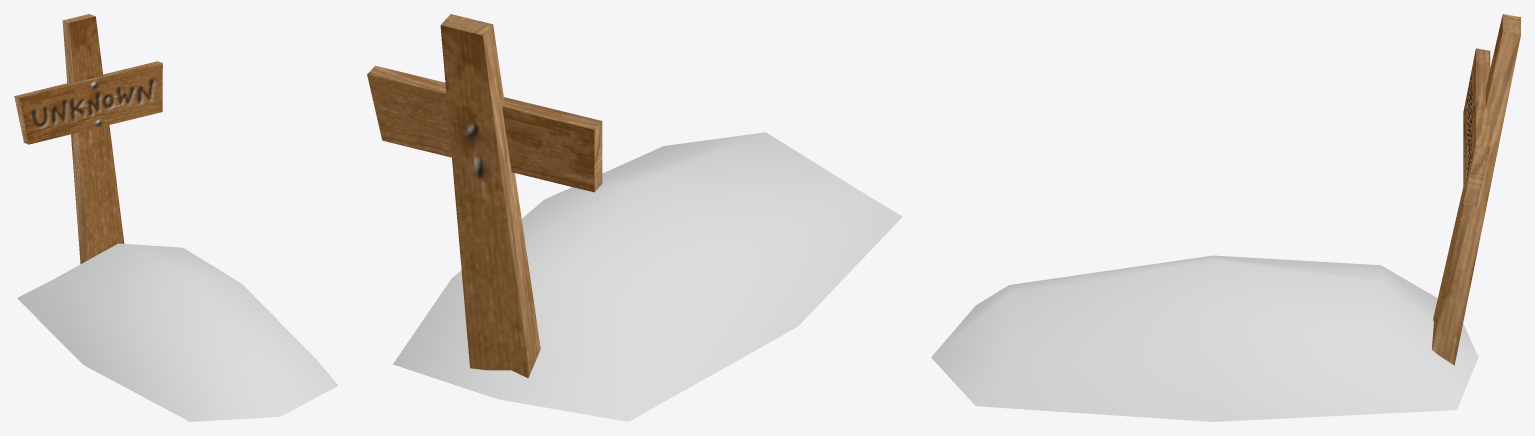
3 renders of one model, left to right at view 1: azimuth 30°, elevation 25°; view 2: azimuth 150°, elevation 25°; view 3: azimuth 270°, elevation 25°, orthographic. The views are drawn at different scales.
Visible parts, largest first — view 1: soil, cross_wood; view 2: soil, cross_wood; view 3: soil, cross_wood.
Boxes of the visible parts, x1,y1,x2,y2 form: soil: [17, 243, 338, 421]; cross_wood: [14, 14, 162, 263]; soil: [393, 132, 902, 421]; cross_wood: [367, 14, 602, 378]; soil: [931, 255, 1478, 421]; cross_wood: [1431, 14, 1520, 365].
Size of the model in its own units: 99.76 by 124 by 194.
2 materials, 1 textured.
